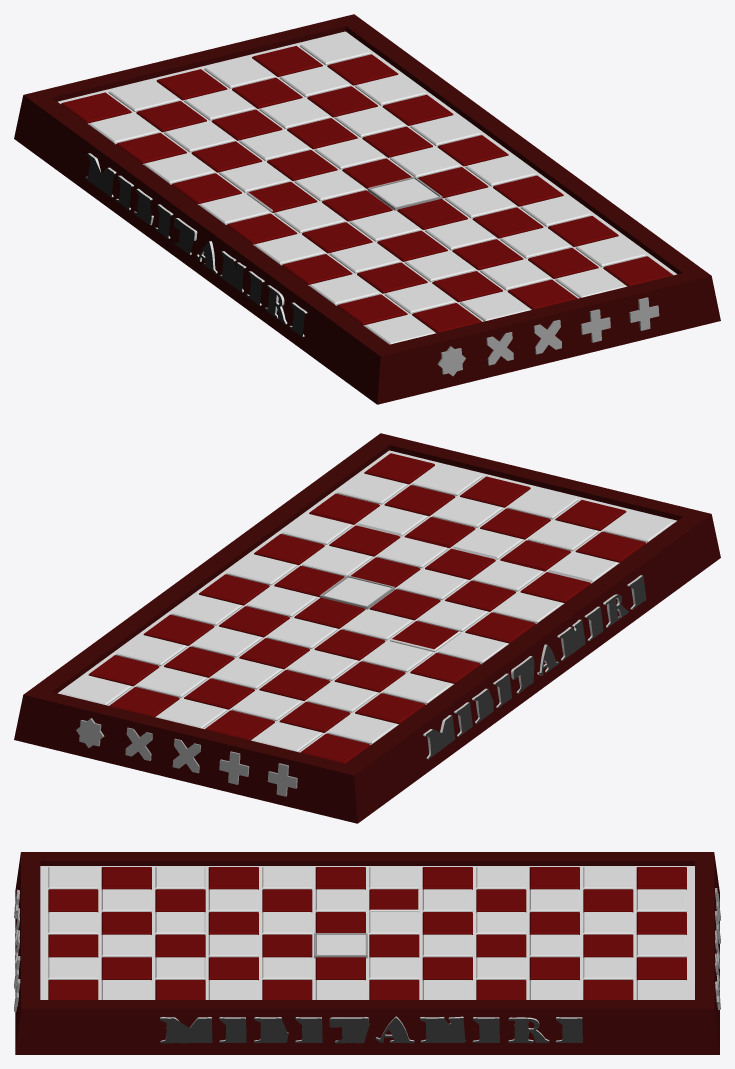
The model's file is chess board.fbx.
3 views of the same model, one above another, from view 1: azimuth 30°, elevation 25°; view 2: azimuth 150°, elevation 25°; view 3: azimuth 270°, elevation 25° (orthographic). The views are drawn at different scales.
Visible parts, largest first — view 1: polySurface1, typeMesh3, Pawn_22L11; view 2: polySurface1, typeMesh3, Pawn_22L12; view 3: polySurface1, typeMesh3, block.
Boxes of the visible parts, <box> form: polySurface1: <box>14,14,720,404</box>; typeMesh3: <box>85,153,307,337</box>; Pawn_22L11: <box>533,319,561,354</box>; polySurface1: <box>14,433,720,823</box>; typeMesh3: <box>423,575,646,759</box>; Pawn_22L12: <box>172,738,200,773</box>; polySurface1: <box>15,852,719,1054</box>; typeMesh3: <box>160,1016,582,1043</box>; block: <box>314,933,367,958</box>.
Size of the model in its own units: 12.35 by 22.62 by 1.53.
